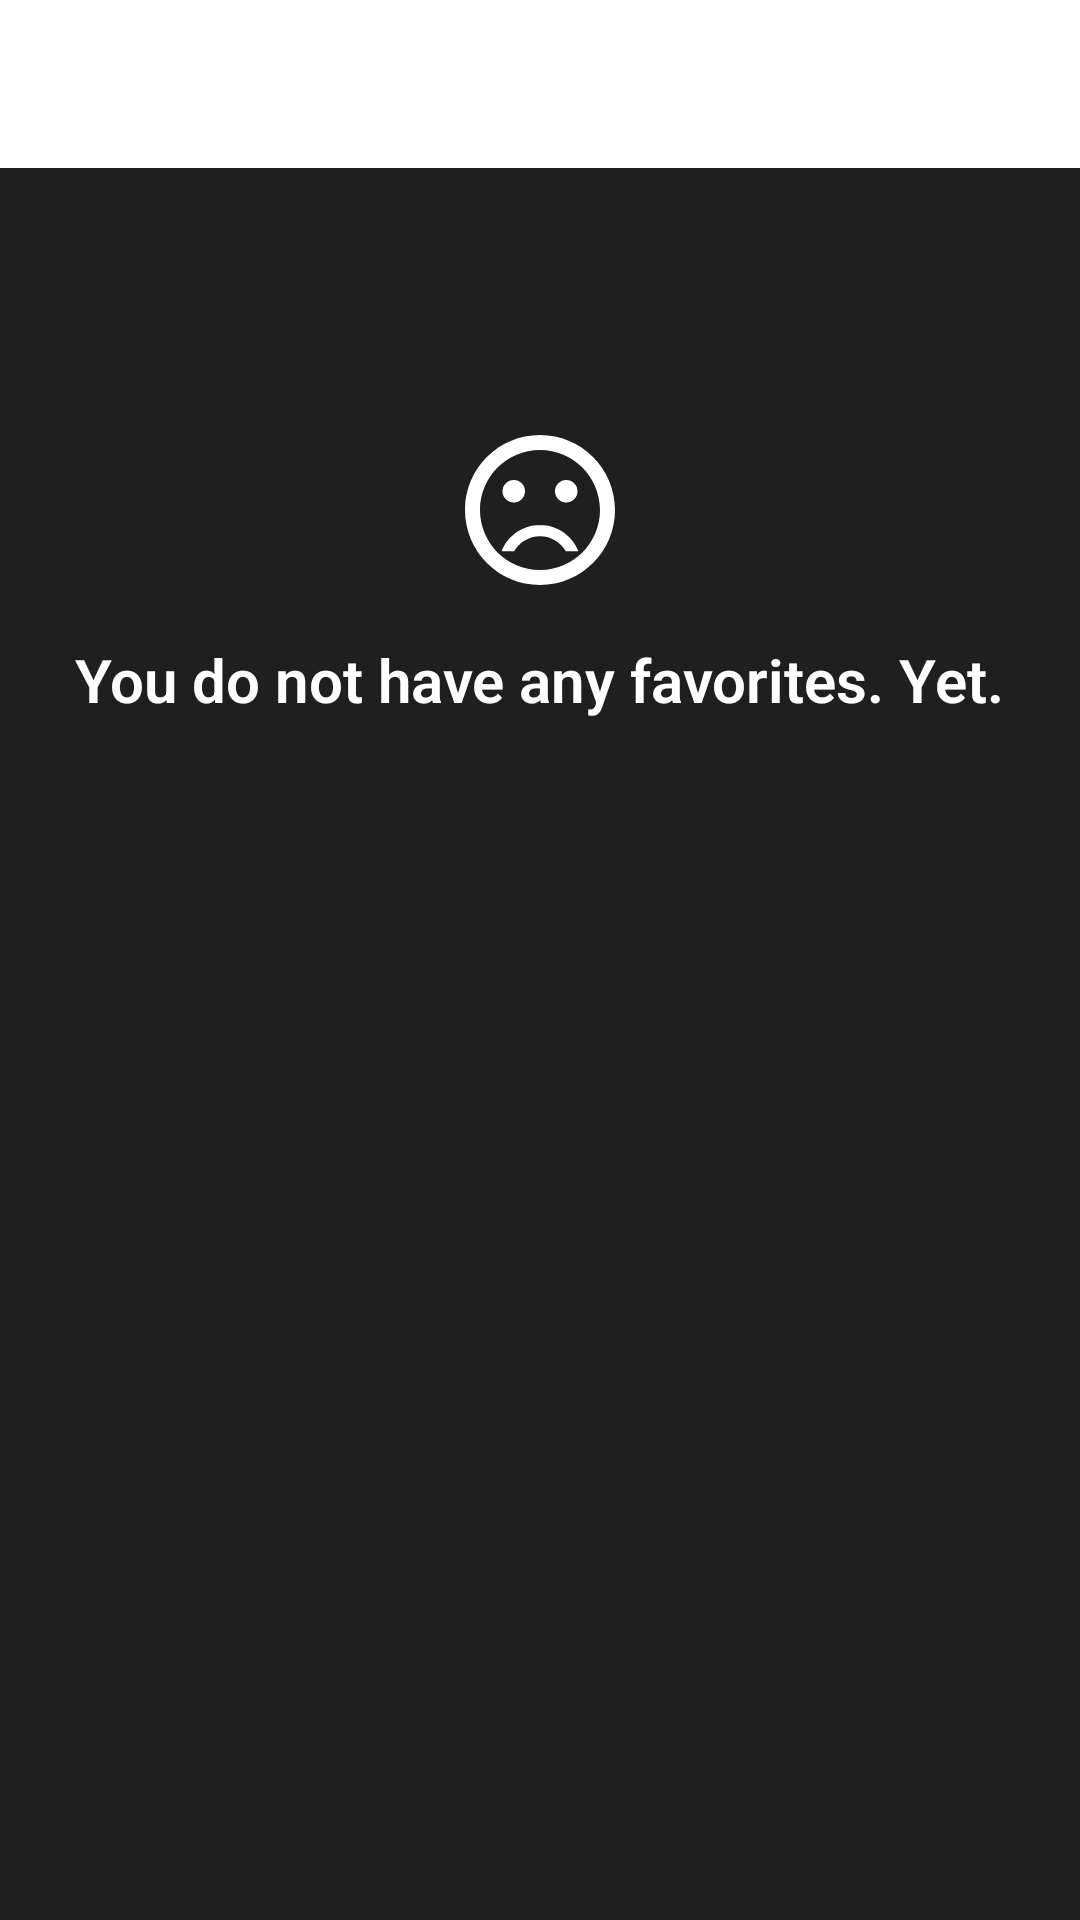

Named icons in this screenshot (1080px x 1920px) and their bounding boxes, (x1, y1, x2, y2):
sentiment dissatisfied: (465, 435, 615, 585)
